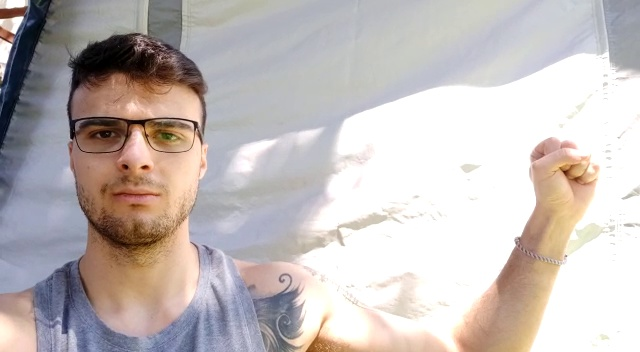Fist: (517, 134, 606, 215)
